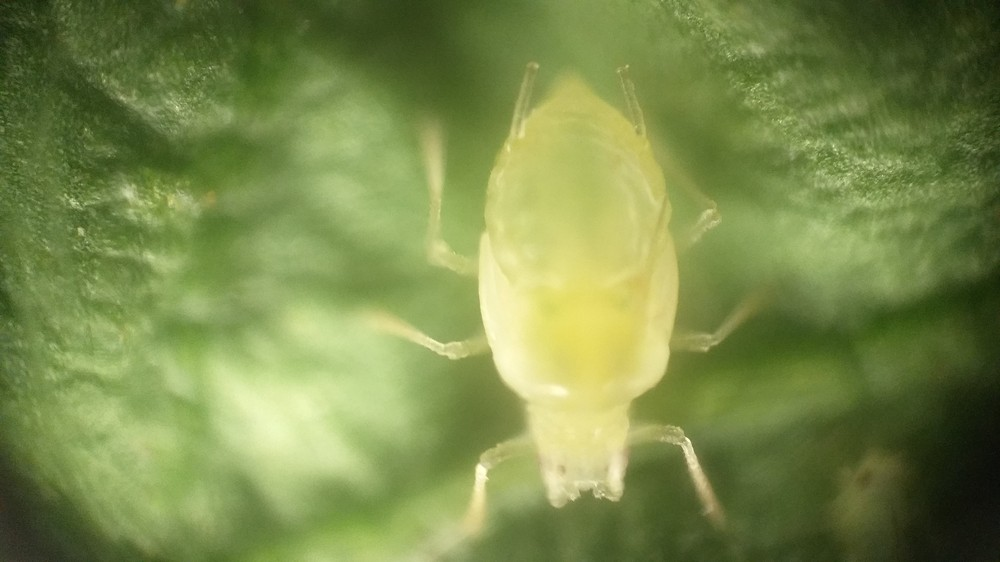Pulgon: (379, 61, 787, 544)
